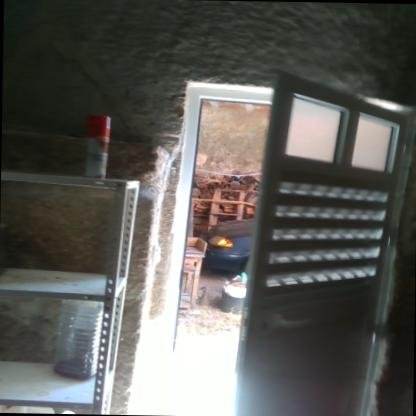semi: (156, 66, 416, 416)
